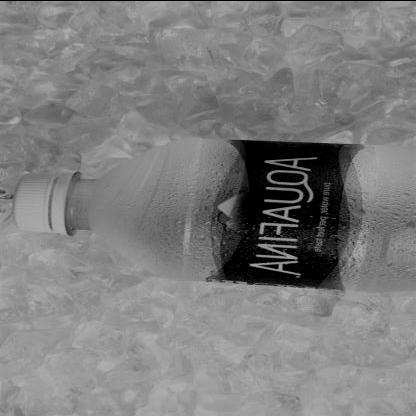bottle: (10, 140, 416, 293)
